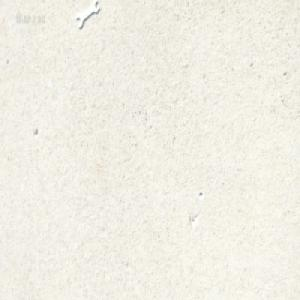Wrench: (76, 4, 99, 30)
